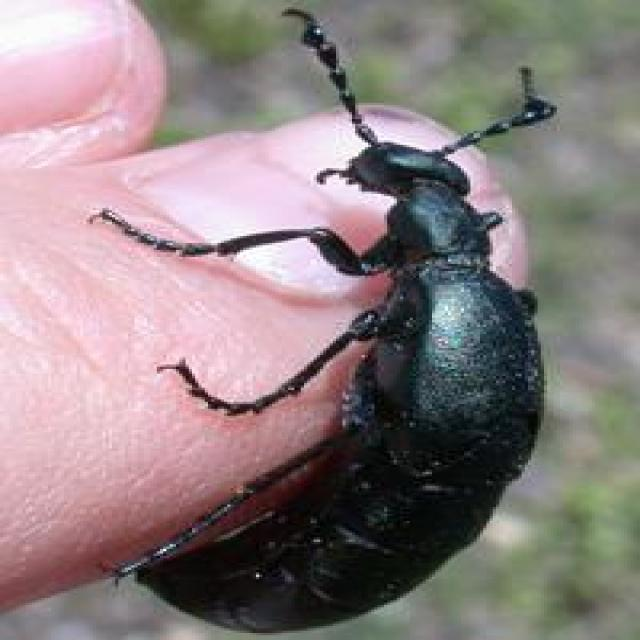BlisterBeetle-Adult-: (65, 4, 586, 634)
